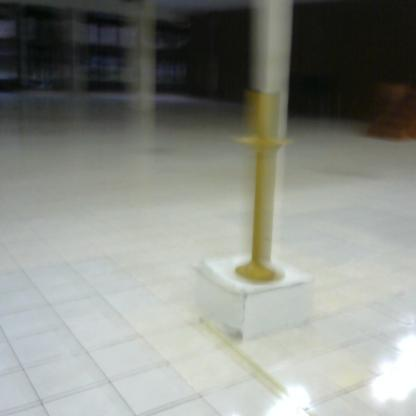pole: (231, 85, 301, 289)
